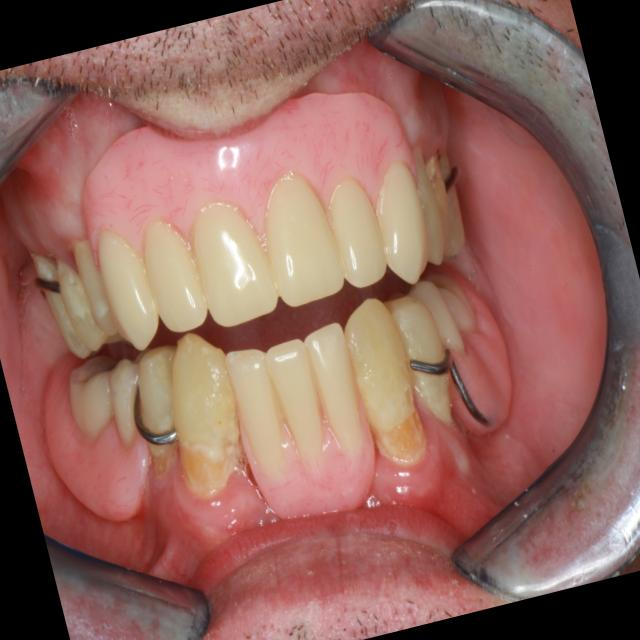tooth: (143, 322, 272, 526), (333, 287, 448, 489), (168, 185, 297, 350), (247, 157, 361, 324), (252, 319, 351, 493), (119, 204, 231, 357), (214, 332, 310, 504), (80, 216, 178, 371), (377, 278, 470, 441), (294, 314, 380, 473), (111, 337, 199, 482), (361, 148, 445, 298), (311, 164, 400, 298), (21, 231, 96, 372), (42, 243, 115, 366), (396, 141, 459, 282), (59, 226, 125, 351), (51, 348, 129, 451), (405, 268, 474, 371), (94, 355, 157, 455), (430, 138, 482, 257), (417, 143, 462, 249), (428, 268, 485, 350)
